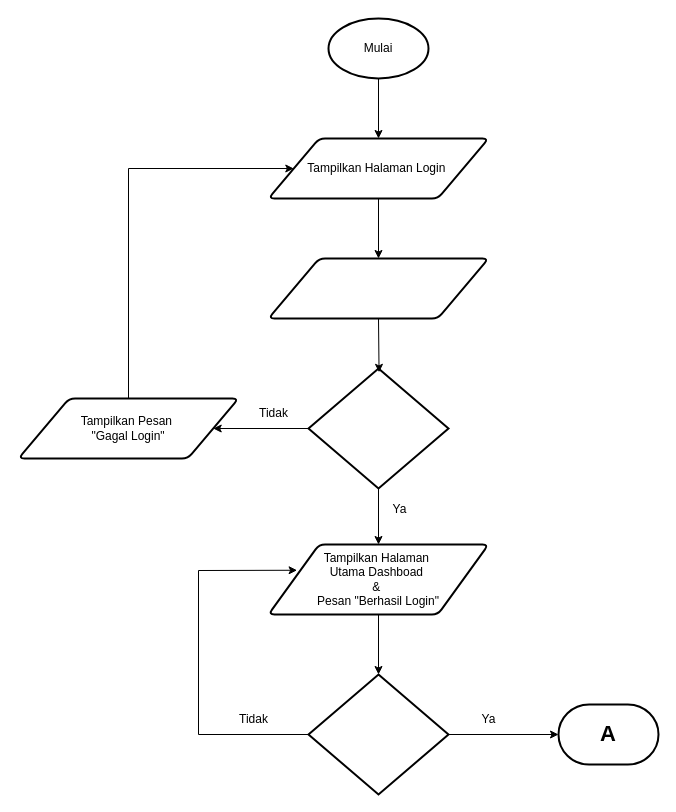
Image size: 676x812. Some labels were removed from this diagram. The centre of each missing label's shape, as x and y in pixels:
Admin Berpindah keHalaman Lain: [378,734]
Apakah Email dan Password Benar: [378,428]
Input Email dan Password: [378,288]
